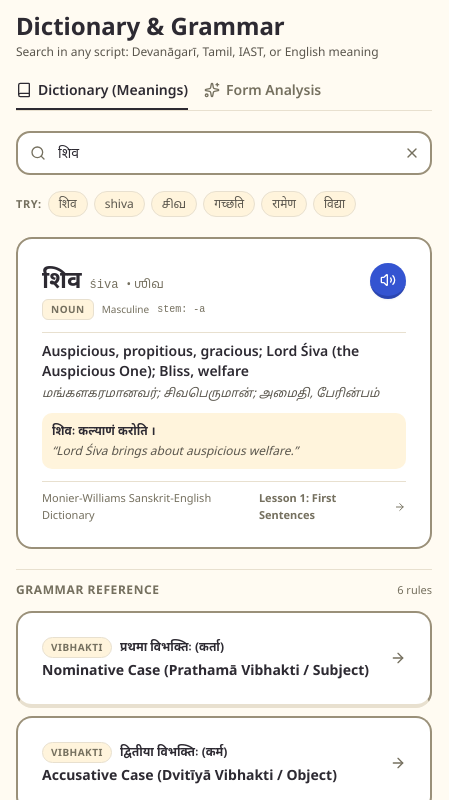
Test: Dictionary & Grammar UI (SPEC §11.1 & §11.2) › filters dictionary entries when typing a search query
Replace the text in the field with test id "dictionary-search-input" with "forest": (224, 153) [16,131,432,175]
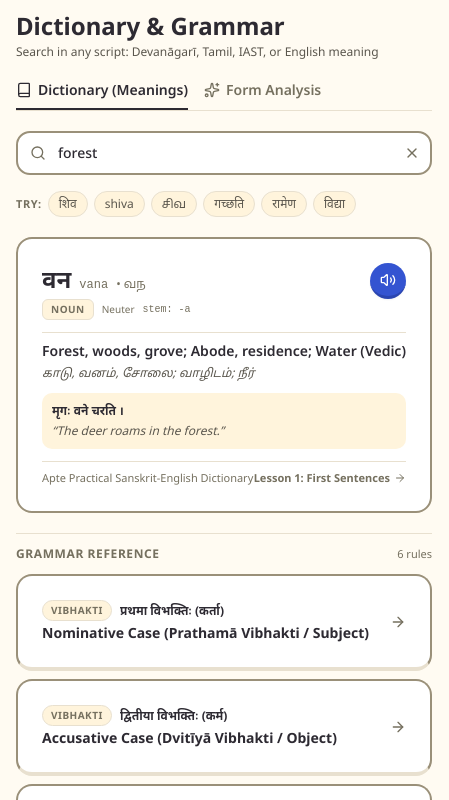
Expected: the element with test id "dict-card-dict-vana" is shown, [16,237,432,512]
Expected: the element with test id "dict-card-dict-shiva" is gone
